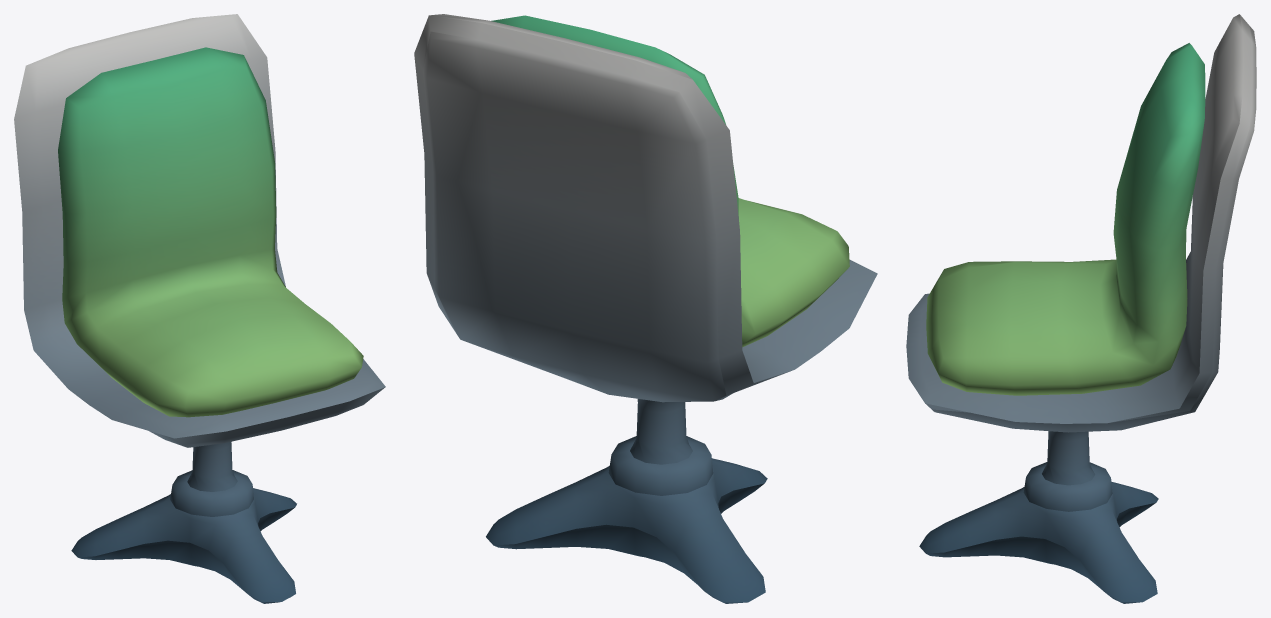
The model's file is Chair.fbx.
3 views of the same model, side by side, from view 1: azimuth 30°, elevation 25°; view 2: azimuth 150°, elevation 25°; view 3: azimuth 270°, elevation 25° (orthographic). The views are drawn at different scales.
Parts seen in each view (by area): view 1: Chair; view 2: Chair; view 3: Chair.
Boxes of the visible parts, x1,y1,x2,y2 form: Chair: (14, 14, 385, 603); Chair: (414, 14, 877, 603); Chair: (906, 14, 1256, 603).
Bounding box in the file's own units: 0.6268 × 1.09 × 0.7087.
